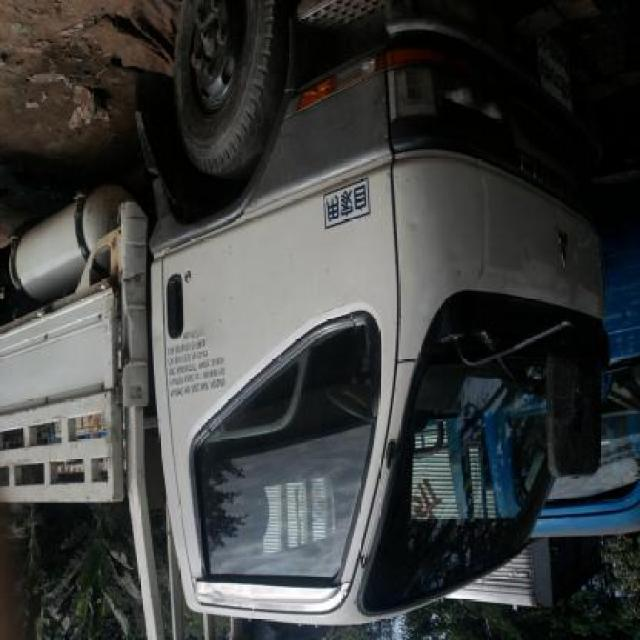truck: (1, 3, 605, 640)
